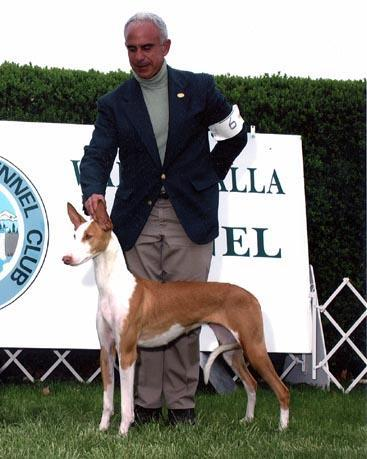Ibizan_hound: (63, 200, 292, 434)
